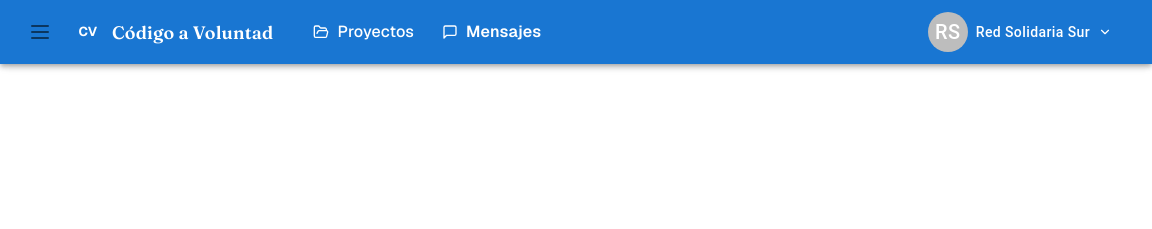
it: Navbar › un colectivo ve mensajes, su colectivo y su cuenta, pero no postulaciones ni perfil
Click the button with aria-label "Cuenta de Red Solidaria Sur": (1020,32) [920,6,1120,58]
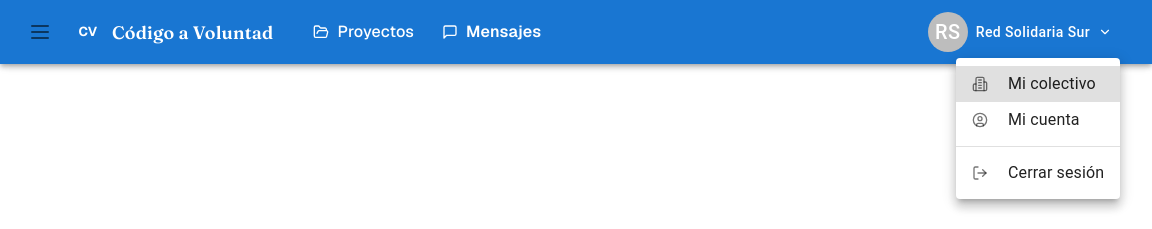
expect the menu items read "Mi colectivo", "Mi cuenta", "Cerrar sesión", in this order: met, box [956,66,1120,102]; [972,110,1080,129]; [972,163,1104,182]
